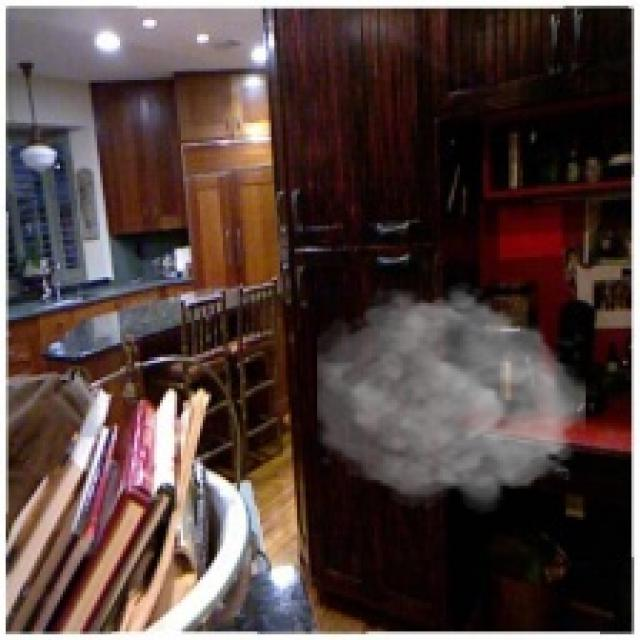smoke: (317, 280, 586, 514)
